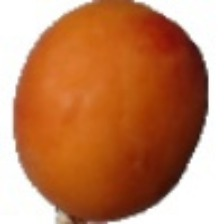apricot: (34, 40, 221, 200)
